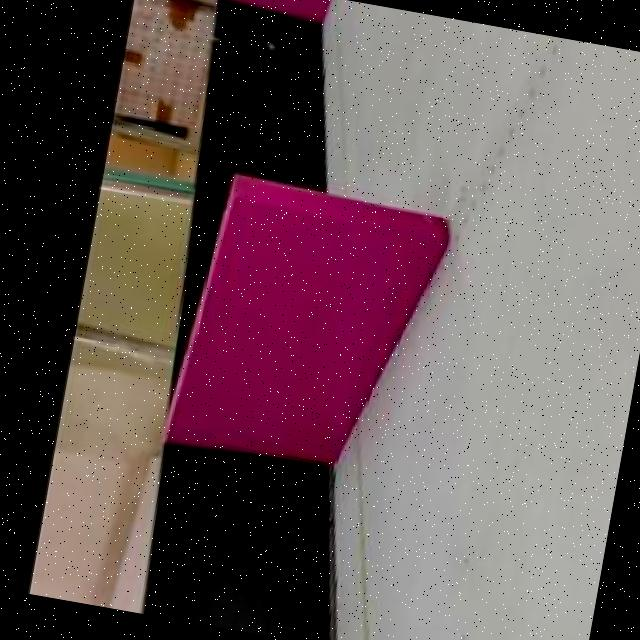xparking: (186, 202, 416, 474), (220, 0, 325, 12)
